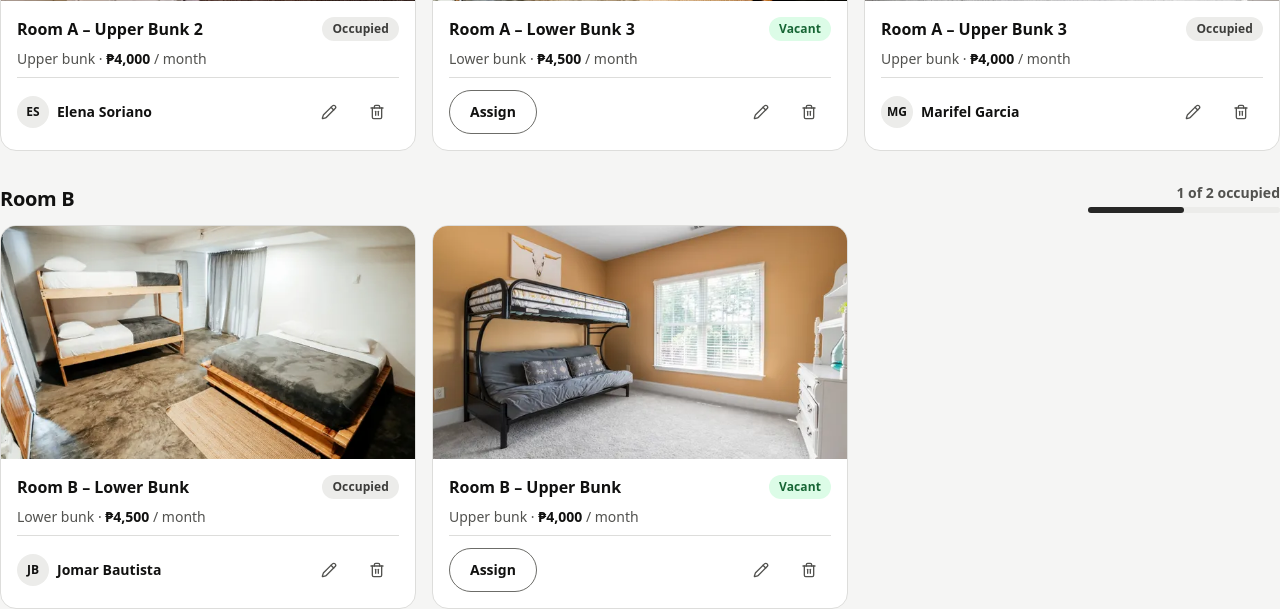
Test case: AdminBedsPage (F13, R29, BR-6, E12, SC-27, SC-28) › asks before deleting a bed; Cancel keeps it
(page scrolled)
Click the button named "Delete Room B – Upper Bunk".
click(809, 570)  # box 787,548 -> 831,592
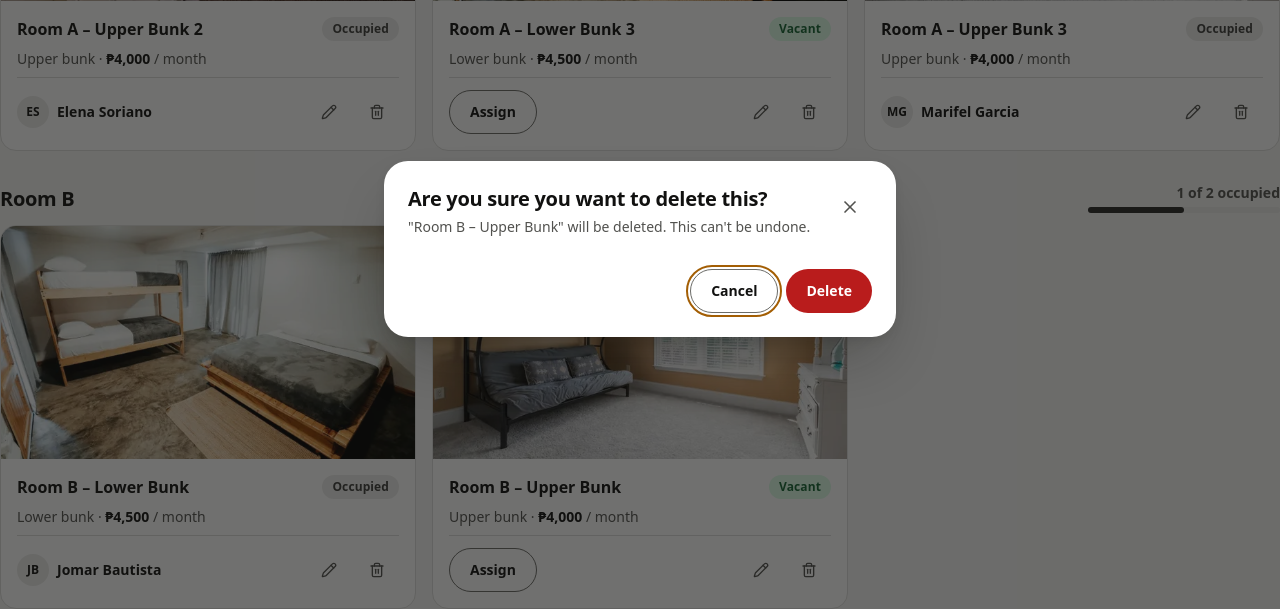
Check: the dialog "Are you sure you want to delete this?" shows "\"Room B – Upper Bunk\" will be deleted.", box 408,217 -> 810,236
Click the button "Cancel".
click(734, 291)  # box 690,269 -> 778,313
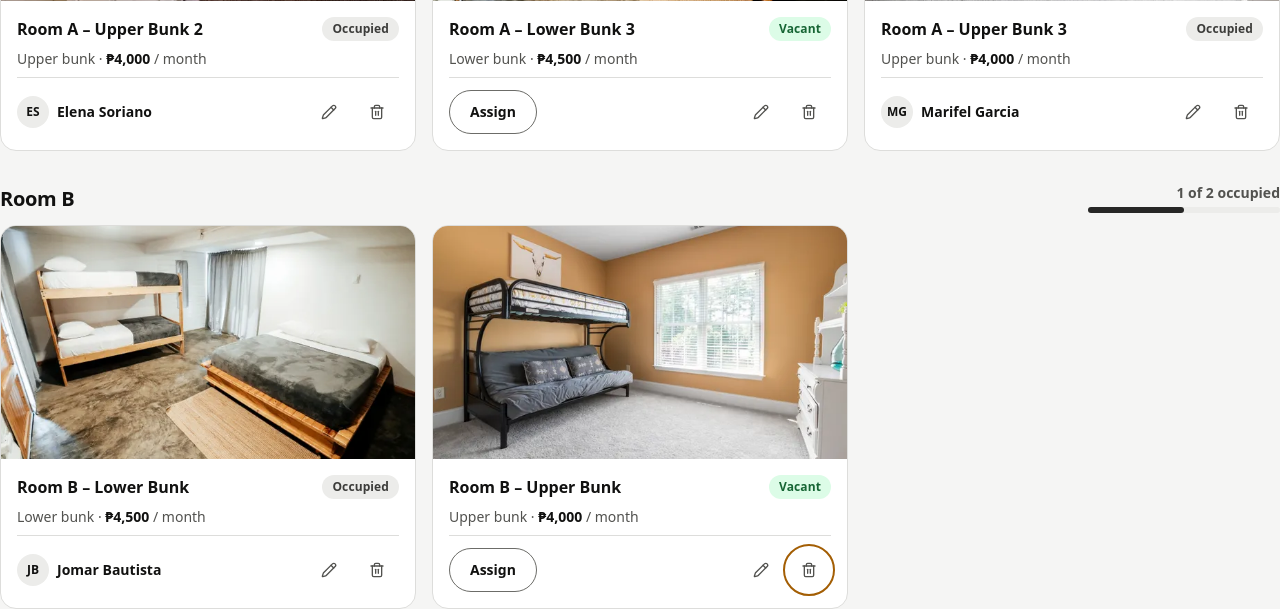
Check: the heading "Room B – Upper Bunk" is shown, box 449,475 -> 621,499
Click the button named "Delete Room B – Upper Bunk".
click(809, 570)  # box 787,548 -> 831,592
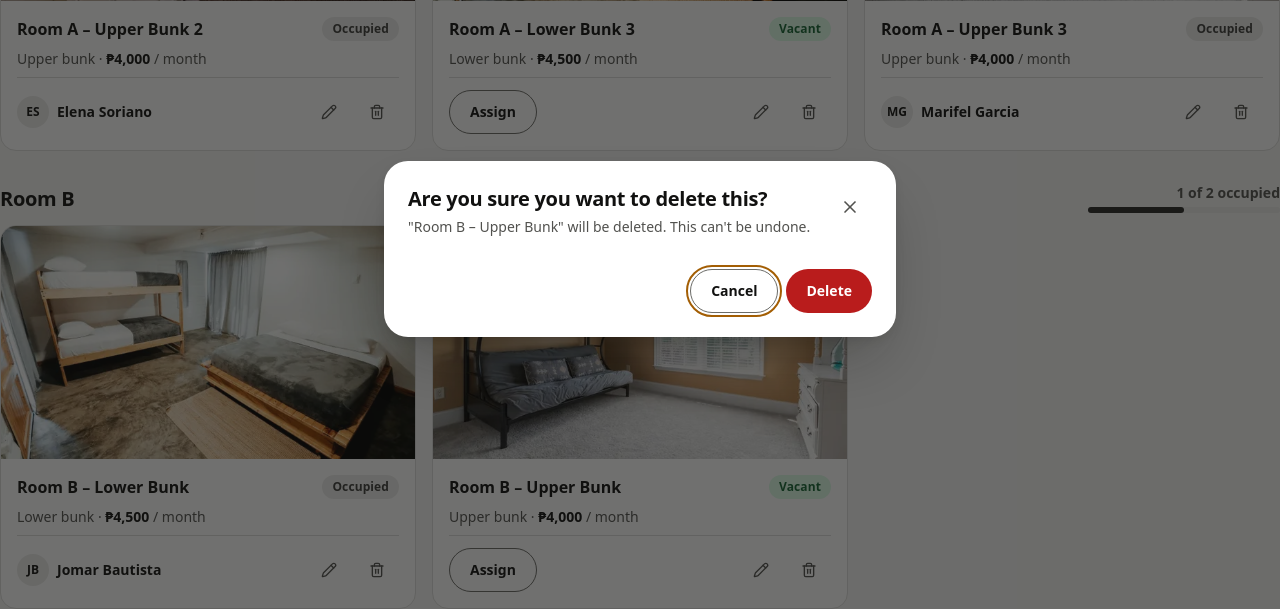
Click the button "Delete".
click(829, 291)  # box 786,269 -> 872,313
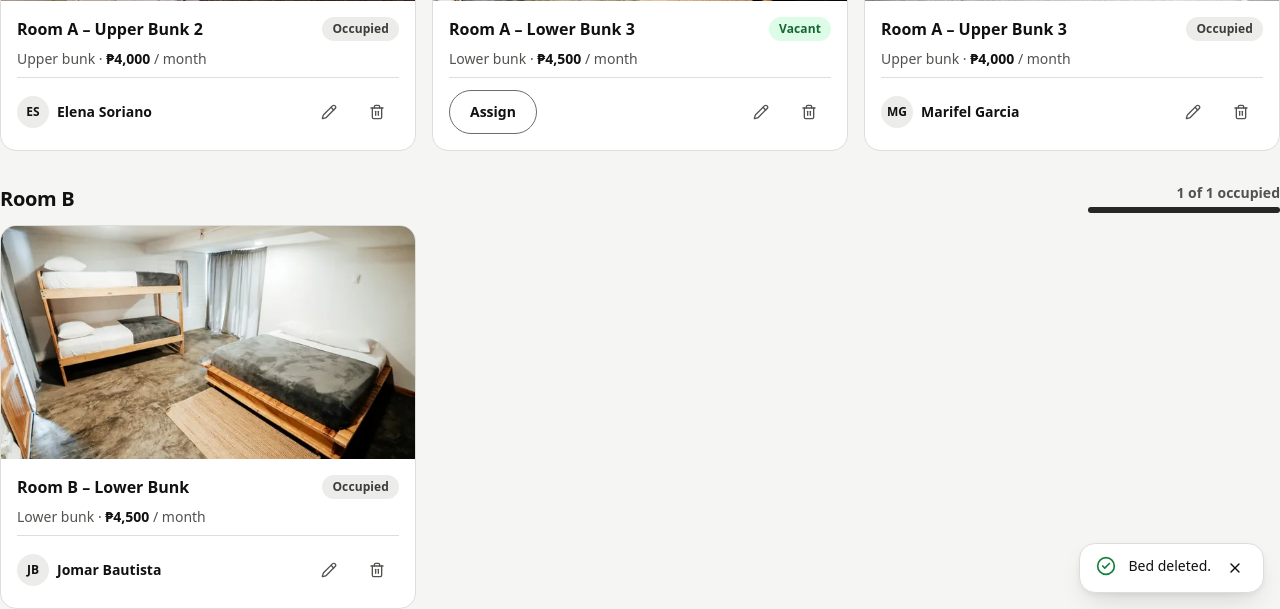
Check: the text "Bed deleted." is shown, box 1128,556 -> 1211,576
